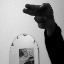h: (22, 2, 55, 29)
